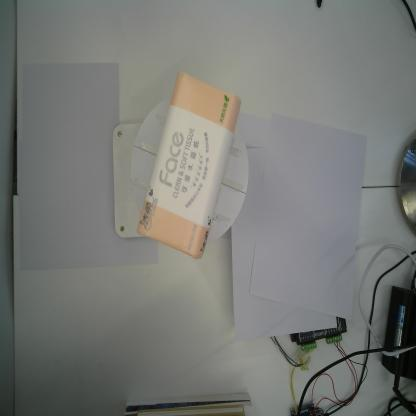Tissue: (136, 70, 243, 260)
